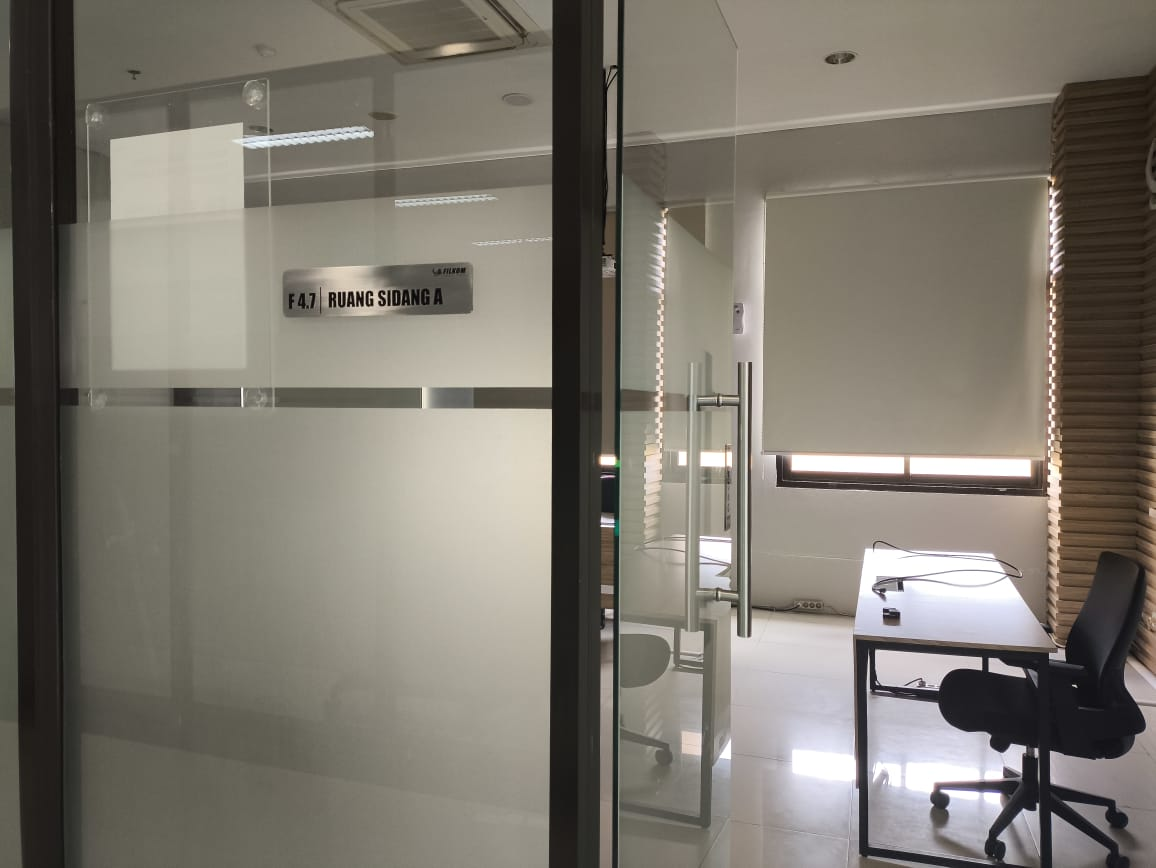ruangan: (276, 260, 479, 322)
